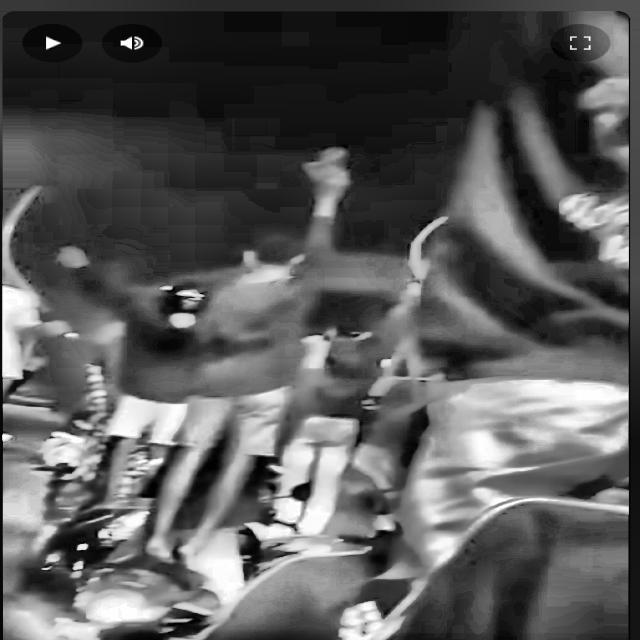celurit: (0, 178, 92, 357), (390, 210, 461, 301)
